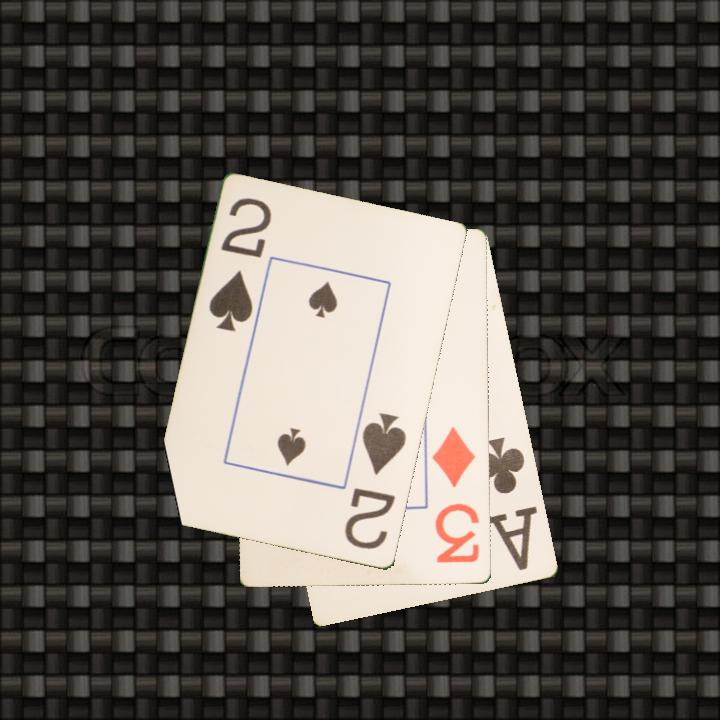2s: (205, 194, 275, 336), (341, 409, 410, 553)
3d: (428, 424, 483, 567)
Ac: (473, 433, 541, 574)
